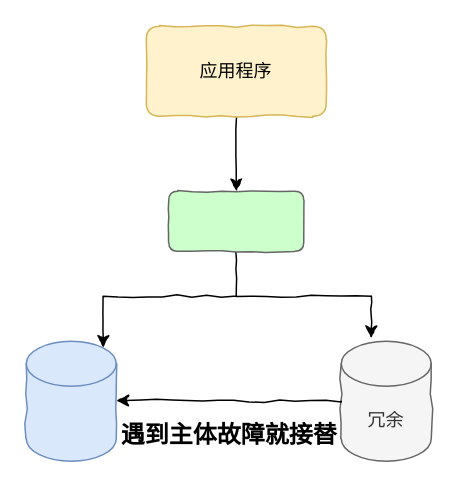
The diagram is 458 pixels wide and 488 high, and some of its shapes have lost their labels. Each missing label, with the centre of its shape:
"主体" goes at point (70, 400).
"暴露入口" goes at point (235, 220).
